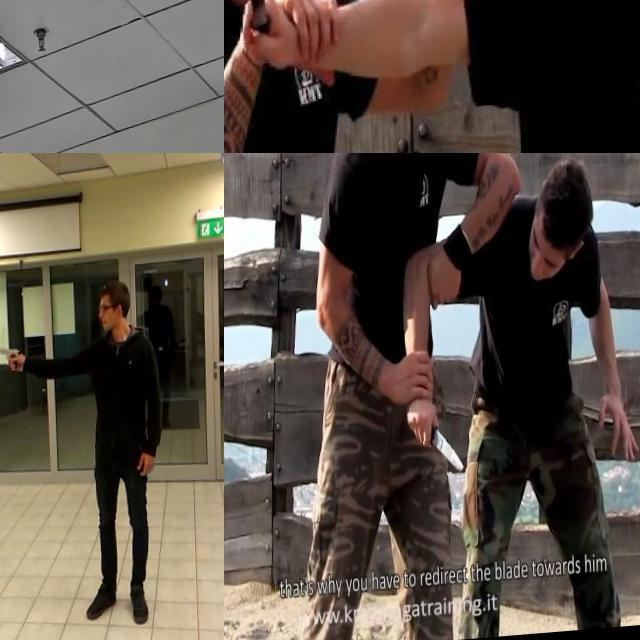-: (402, 407, 466, 484), (236, 0, 276, 70)
gun-knife-thesis - v11 Yolov5 augmented: (0, 337, 19, 375)
